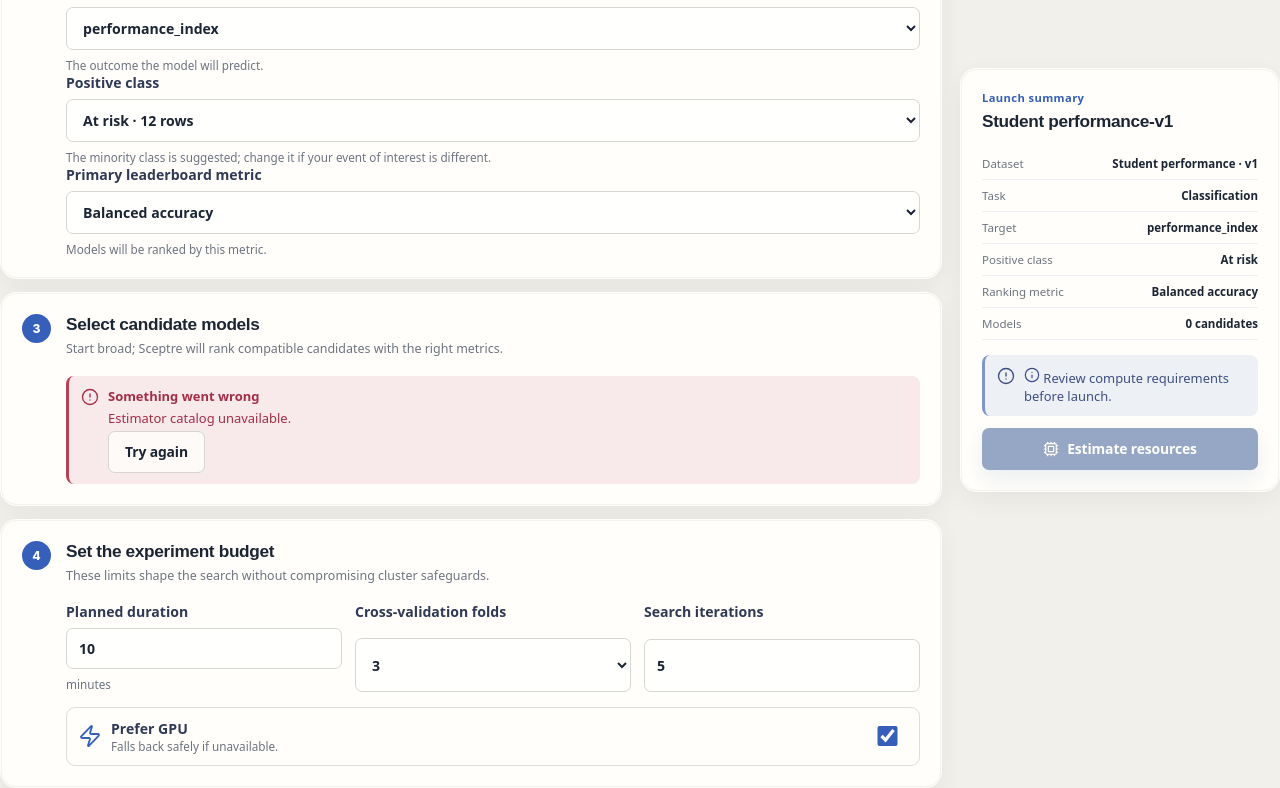
Test: core workflow integrations › shows estimator catalog failures and recovers on retry
This screenshot has width=1280, height=788.
(page scrolled)
Check: the text "Estimator catalog unavailable." is shown, box [108, 408, 291, 428]
Click the button "Try again": [156, 452] box [108, 431, 205, 473]
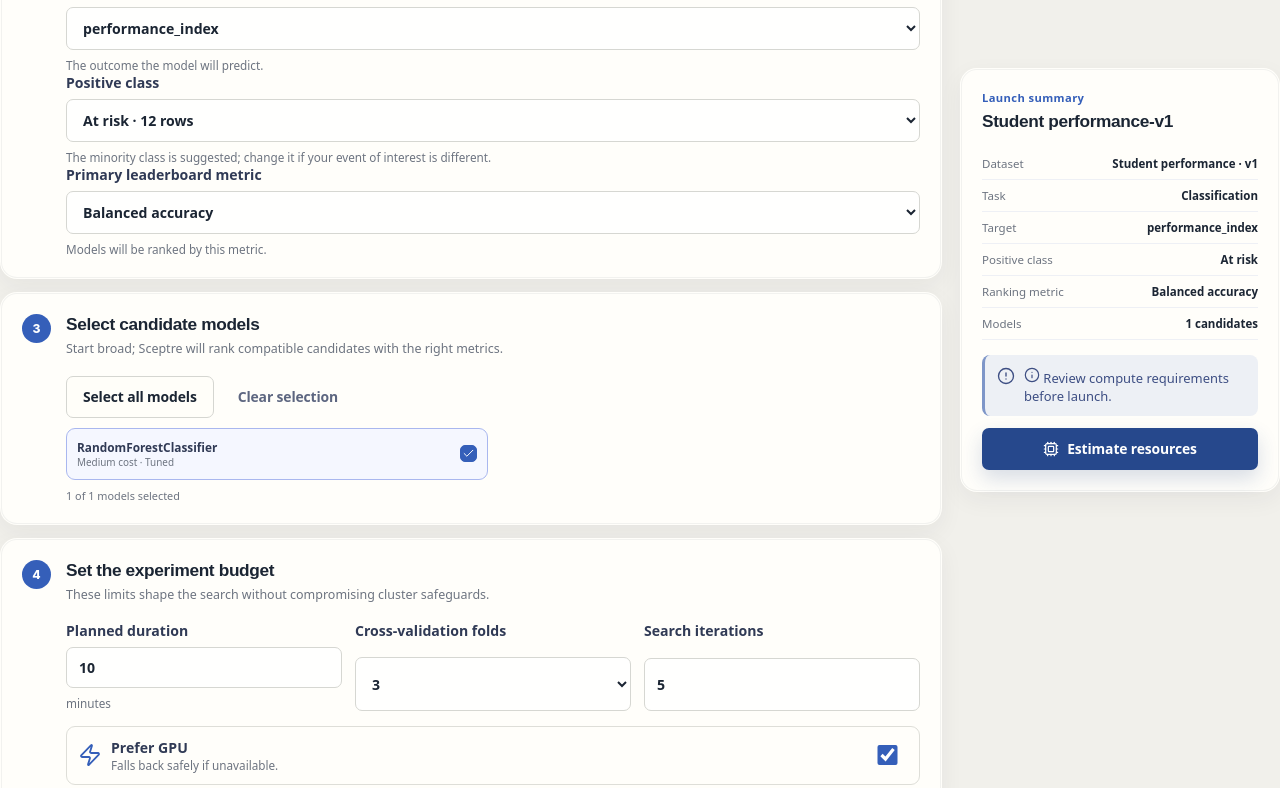
Check: the dropdown labelled "Positive class" shows "At risk · 12 rows", box [66, 99, 920, 142]
Check: the text "RandomForestClassifier" is shown, box [77, 439, 217, 455]
Check: the text "1 of 1 models selected" is shown, box [66, 488, 180, 503]
